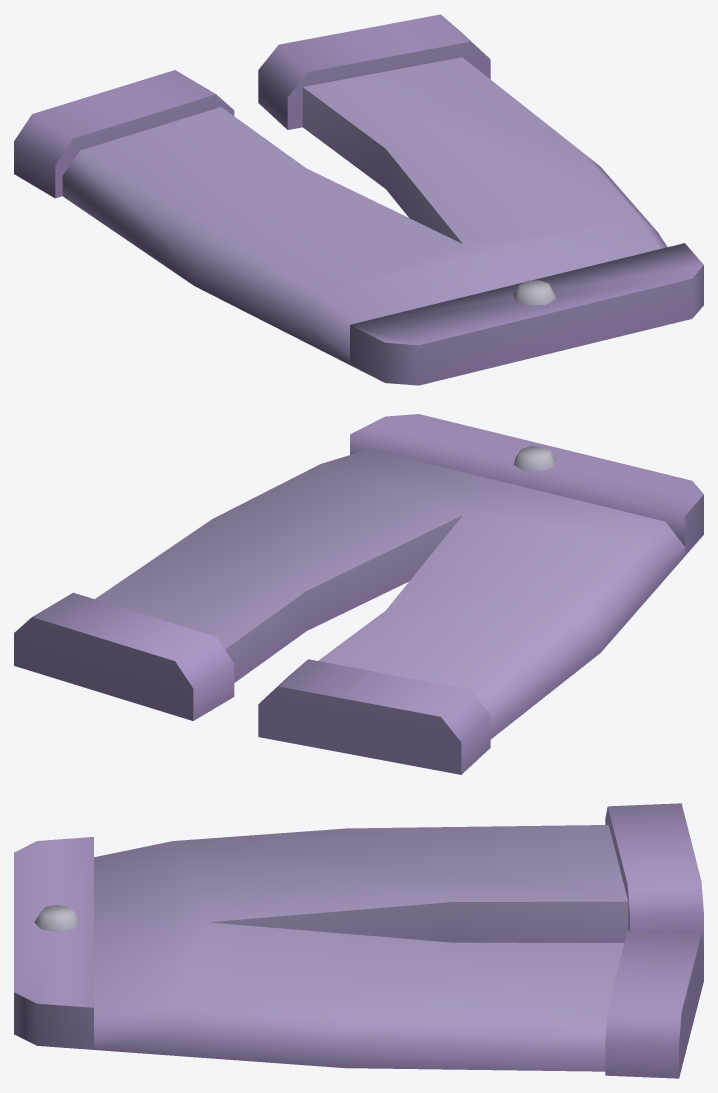
Rendered from clothing-floor-pants.glb.
3 renders of one model, top to bottom at view 1: azimuth 30°, elevation 25°; view 2: azimuth 150°, elevation 25°; view 3: azimuth 270°, elevation 25°, orthographic. The views are drawn at different scales.
Visible parts, largest first — view 1: clothing-floor-pants; view 2: clothing-floor-pants; view 3: clothing-floor-pants.
Boxes of the visible parts, bbox=[...] form: clothing-floor-pants: bbox=[14, 14, 703, 385]; clothing-floor-pants: bbox=[14, 414, 703, 774]; clothing-floor-pants: bbox=[14, 803, 703, 1078].
Size of the model in its own units: 0.4669 by 0.0542 by 0.5964.
